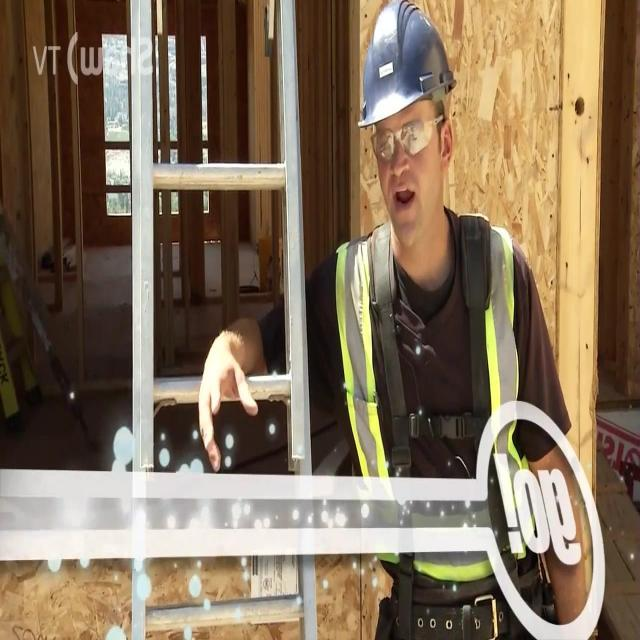Reflective-Jacket: (326, 214, 536, 486)
Safety-Helmet: (353, 3, 461, 138), (100, 618, 132, 640)
